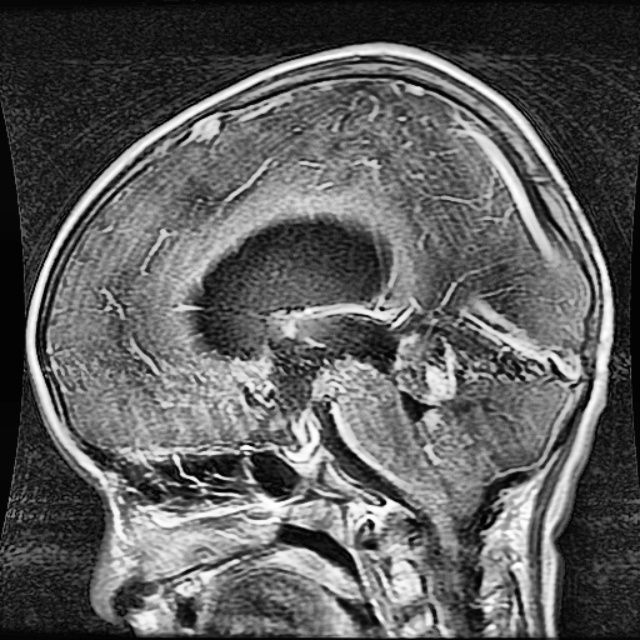Meningioma: (193, 215, 403, 448)
